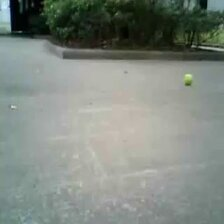tennis: (184, 73, 194, 85)
